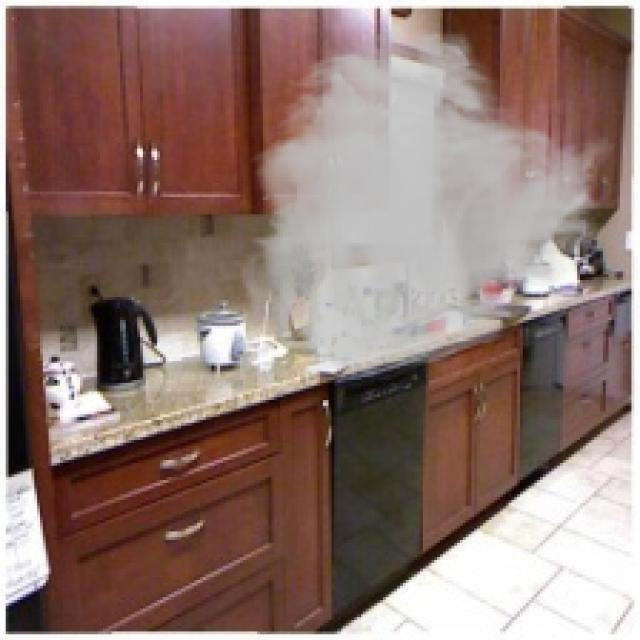Smoke: (237, 26, 617, 383)
